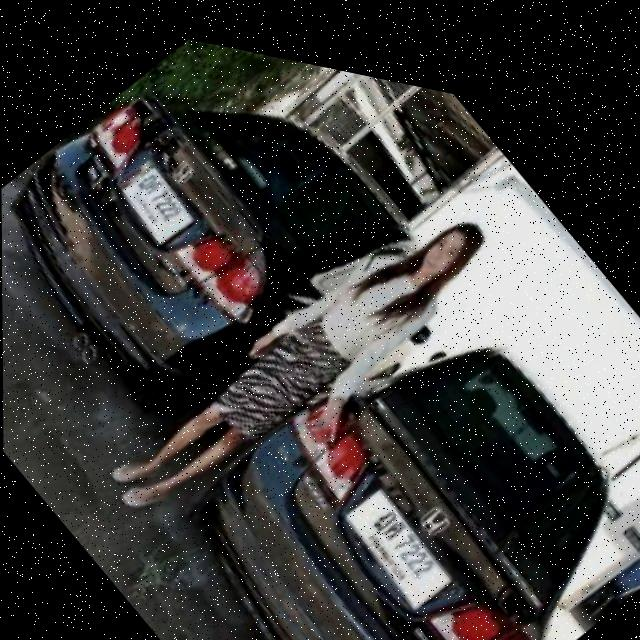license_plate: (338, 462, 455, 596)
